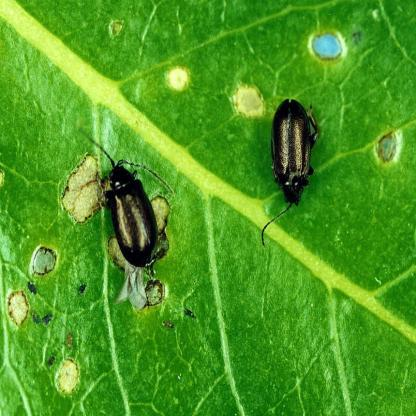beetle: (95, 148, 169, 273), (268, 90, 323, 209)
